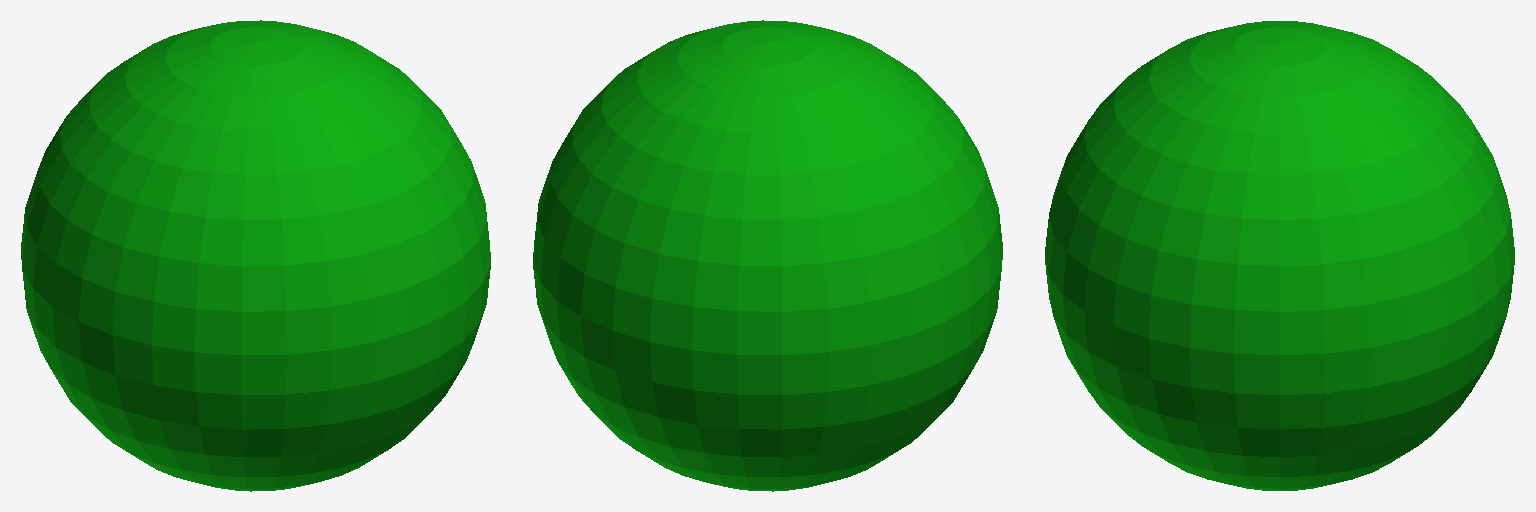
The robot description file, URDF, robot "ball":
<robot name="ball">

    <material name="color">
        <color rgba="0.08235294117647059 0.6901960784313725 0.10196078431372549 1.0" />
    </material>

	<link name="base_link">
		<visual>
			<geometry>
				<sphere radius="0.6"/>
			</geometry>
			<material name="color"/>
		</visual>
		<collision>
			<geometry>
				<sphere radius="0.6"/>
			</geometry>		
		</collision>
		<inertial>
			<mass value = "1"/>
			<inertia
				ixx = "0.6667"
				ixy = "0"
				ixz = "0"
				iyy = "0.6667"
				iyz = "0"
				izz = "0.6667"
			/>	
		</inertial>
	</link>	

</robot>

--- What the picture shows (computed from the rendered views, not written in the file) ---
Views: 3 orthographic renders of the robot side by side, from view 1: azimuth 30°, elevation 25°; view 2: azimuth 150°, elevation 25°; view 3: azimuth 270°, elevation 25°.
Model ball with 1 links and 0 joints (none), rooted at base_link, posed every joint at zero.
Visible links, largest first — view 1: base_link; view 2: base_link; view 3: base_link.
Link boxes in pixels (left/top/right/bottom): base_link: left=21, top=20, right=490, bottom=491; base_link: left=533, top=20, right=1002, bottom=491; base_link: left=1045, top=21, right=1514, bottom=490.
Bounding box of the posed robot: 1.2 × 1.2 × 1.2 m (x, y, z).
Geometry: primitives only (box / cylinder / sphere), no mesh files.